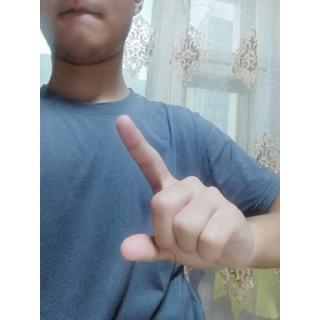BAA: (112, 111, 254, 275)
